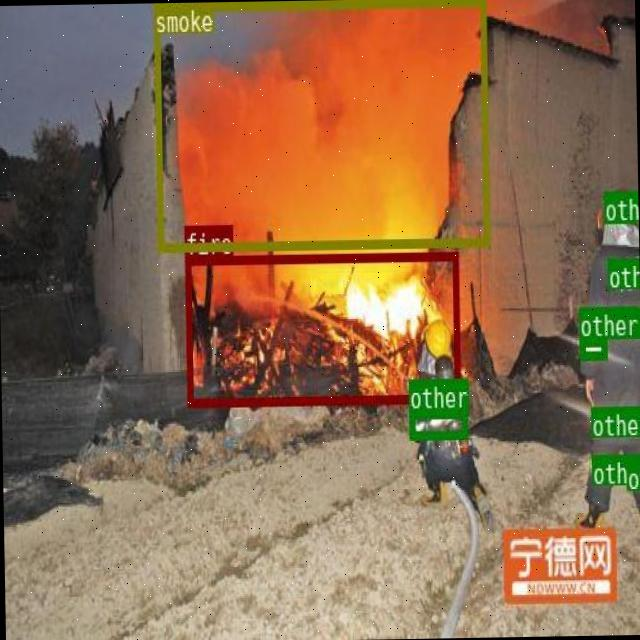fire: (185, 252, 460, 404)
smoke: (152, 0, 488, 249)
